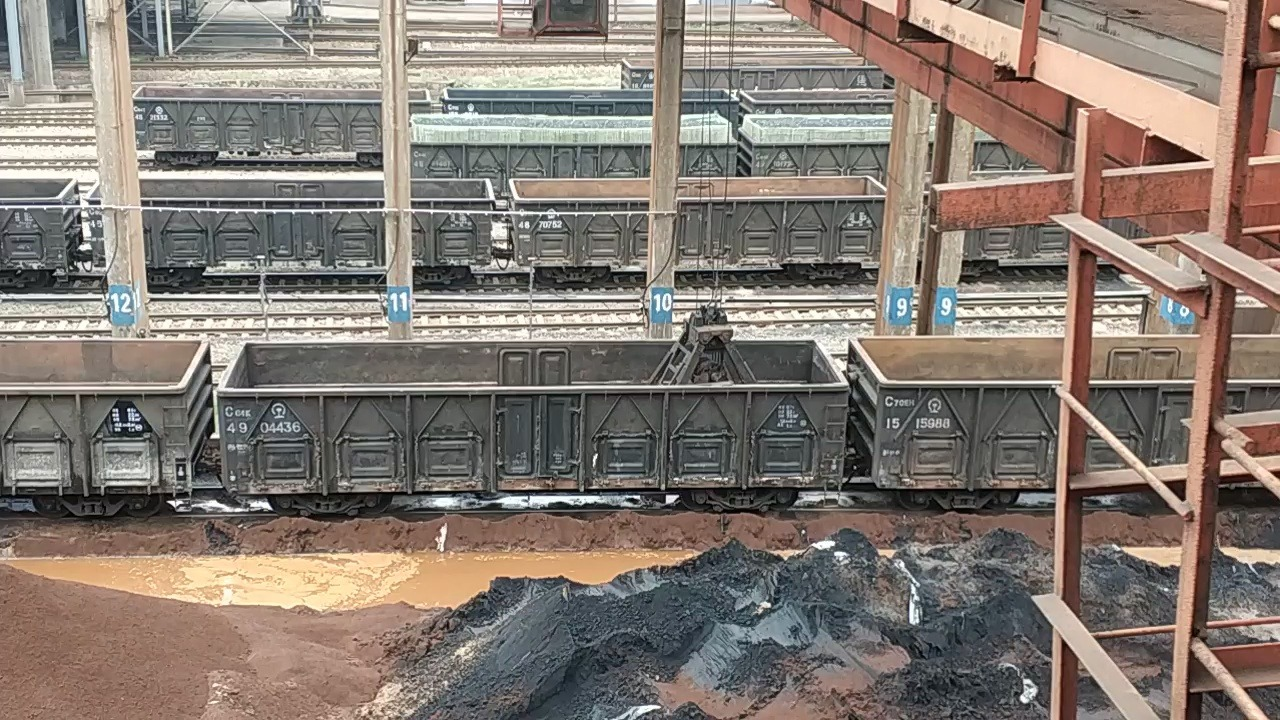grab: (641, 300, 767, 393)
